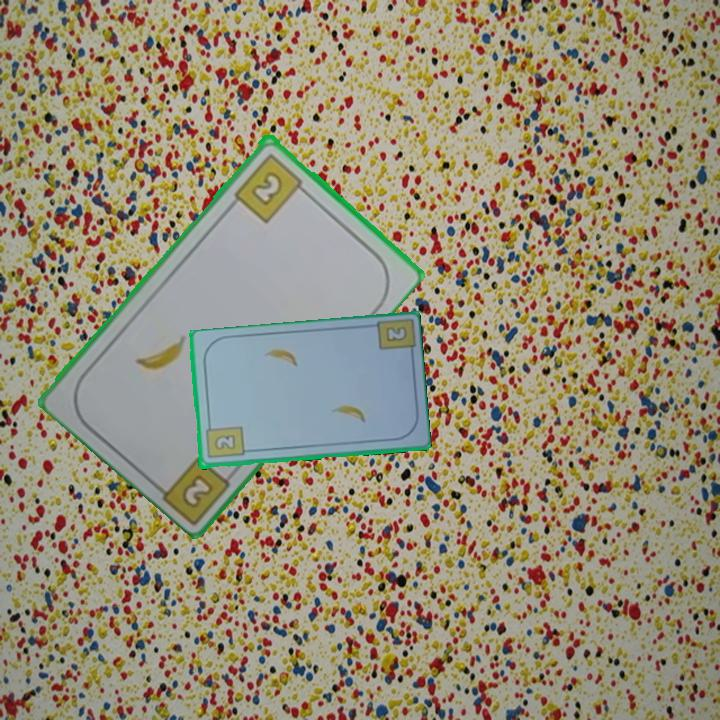2b: (230, 149, 311, 225), (202, 419, 246, 461), (181, 474, 213, 508), (382, 323, 410, 345)
